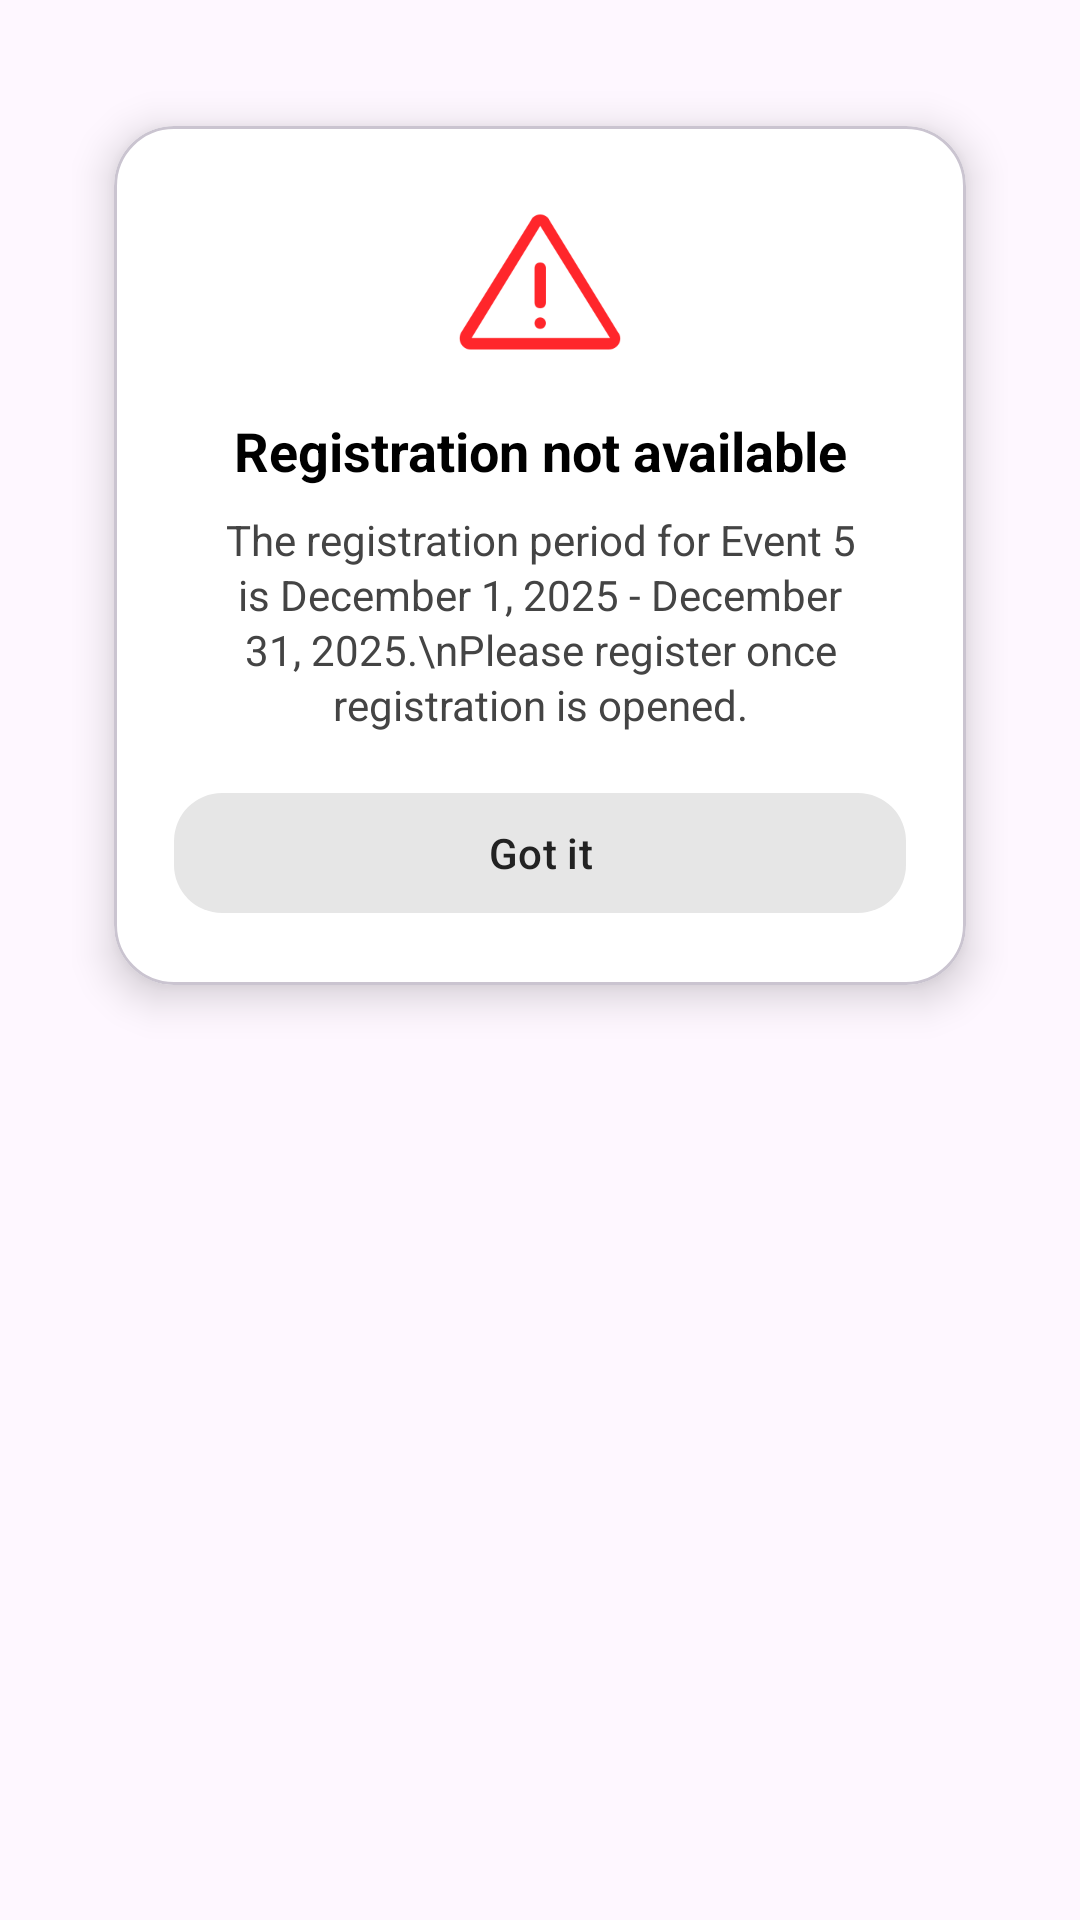

Named icons in this screenshot (1080px×1920px) and their centers, (x,y):
Warning icon: (540,282)
